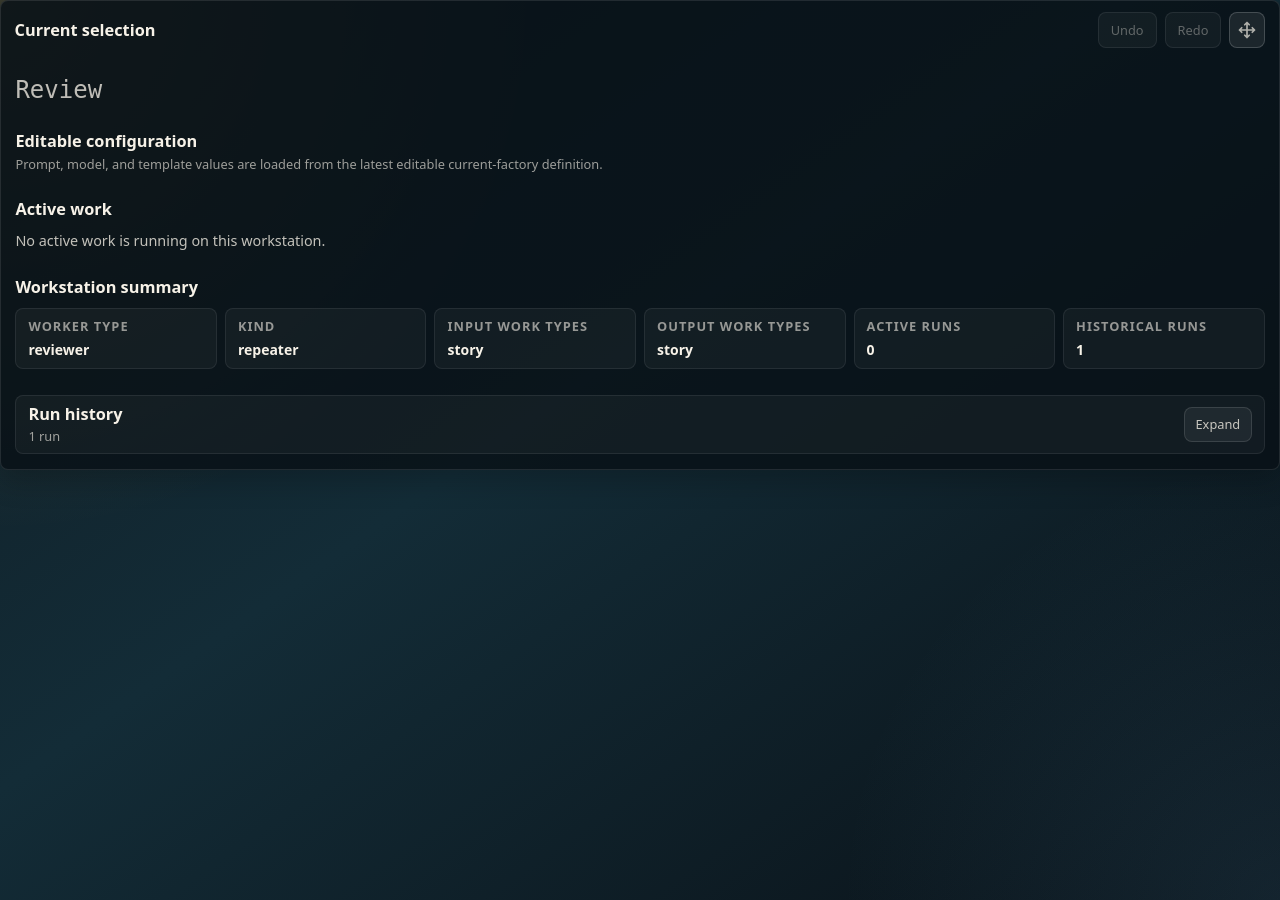
Test: WorkstationDetailCard › renders explicit Codex session log links from local JSONL metadata
Step 1. Click the button "Expand" → (1218, 424), box left=1184, top=407, right=1252, bottom=442
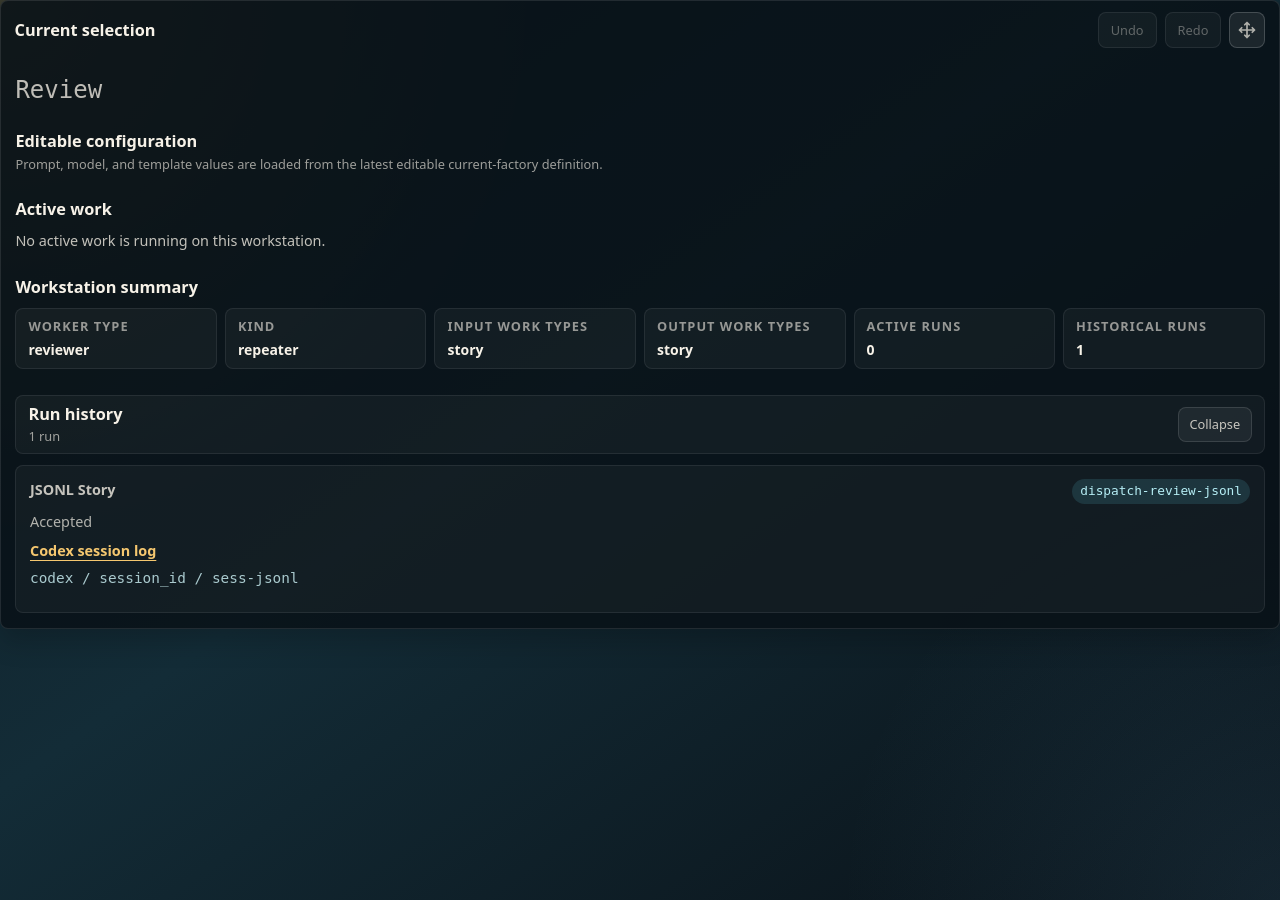
Result: the text "codex / session_id / sess-jsonl" is shown at left=30, top=570, right=299, bottom=586
